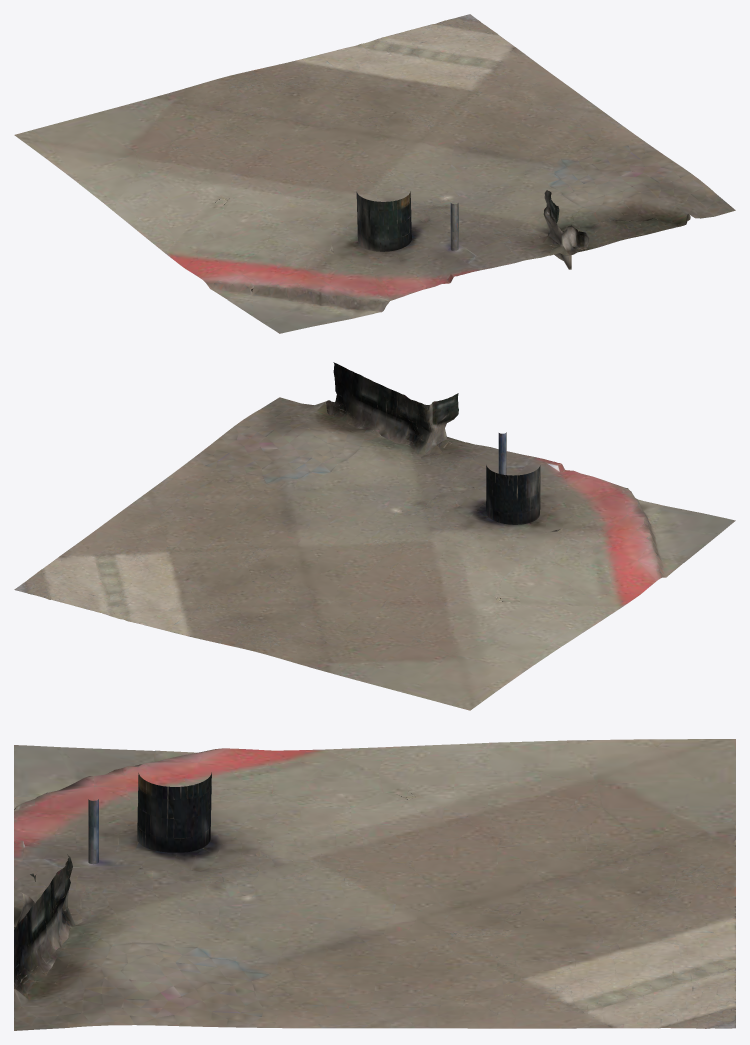
3 renders of one model, top to bottom at view 1: azimuth 30°, elevation 25°; view 2: azimuth 150°, elevation 25°; view 3: azimuth 270°, elevation 25°, orthographic. The views are drawn at different scales.
Size of the model in its own units: 6.1 by 0.8983 by 6.15.
1 material, 1 textured.
